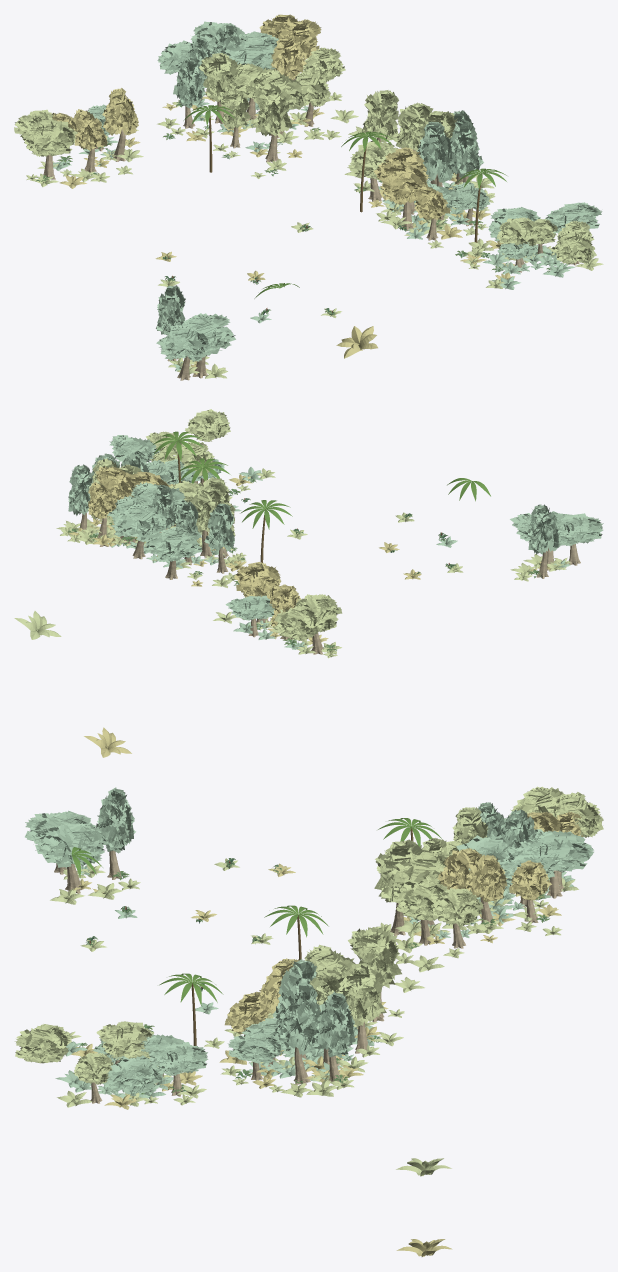
The model's file is island-context-reference.glb.
The picture shows the model from 3 angles, top to bottom: view 1: azimuth 30°, elevation 25°; view 2: azimuth 150°, elevation 25°; view 3: azimuth 270°, elevation 25°; orthographic projection. The views are drawn at different scales.
Parts seen in each view (by area): view 1: C1 Island ref / tree / 29:11, C1 Island ref / tree / 24:30, C1 Island ref / tree / 33:16, C1 Island ref / tree / 31:11, C1 Island ref / tree / 33:13, C1 Island ref / tree / 35:9, C1 Island ref / tree / 29:12, C1 Island ref / tree / 33:14, C1 Island ref / tree / 35:10, C1 Island ref / tree / 31:18, C1 Island ref / tree / 35:25, C1 Island ref / tree / 29:16 (+25 smaller); view 2: C1 Island ref / tree / 35:28, C1 Island ref / tree / 35:27, C1 Island ref / tree / 31:18, C1 Island ref / tree / 24:29, C1 Island ref / tree / 29:10, C1 Island ref / tree / 35:9, C1 Island ref / tree / 29:16, C1 Island ref / tree / 24:21, C1 Island ref / tree / 29:13, C1 Island ref / tree / 35:22, C1 Island ref / tree / 31:14, C1 Island ref / tree / 24:30 (+12 smaller); view 3: C1 Island ref / tree / 29:12, C1 Island ref / tree / 35:10, C1 Island ref / tree / 33:12, C1 Island ref / tree / 29:13, C1 Island ref / tree / 35:27, C1 Island ref / tree / 33:13, C1 Island ref / tree / 29:10, C1 Island ref / tree / 24:21, C1 Island ref / tree / 35:22, C1 Island ref / tree / 33:16, C1 Island ref / tree / 24:28, C1 Island ref / tree / 31:14 (+19 smaller).
Part boxes in pixels (x1,y1,x2,y2): C1 Island ref / tree / 29:11: [417, 121, 457, 182]; C1 Island ref / tree / 24:30: [19, 119, 77, 156]; C1 Island ref / tree / 33:16: [253, 82, 293, 136]; C1 Island ref / tree / 31:11: [373, 161, 427, 204]; C1 Island ref / tree / 33:13: [363, 90, 398, 142]; C1 Island ref / tree / 35:9: [156, 323, 211, 361]; C1 Island ref / tree / 29:12: [450, 119, 483, 177]; C1 Island ref / tree / 33:14: [199, 53, 238, 101]; C1 Island ref / tree / 35:10: [183, 313, 235, 355]; C1 Island ref / tree / 31:18: [102, 88, 138, 135]; C1 Island ref / tree / 35:25: [223, 36, 278, 70]; C1 Island ref / tree / 29:16: [173, 56, 205, 108]; C1 Island ref / tree / 35:28: [143, 527, 202, 561]; C1 Island ref / tree / 35:27: [112, 503, 166, 541]; C1 Island ref / tree / 31:18: [234, 562, 281, 598]; C1 Island ref / tree / 24:29: [273, 605, 322, 639]; C1 Island ref / tree / 29:10: [527, 504, 561, 554]; C1 Island ref / tree / 35:9: [556, 513, 603, 545]; C1 Island ref / tree / 29:16: [204, 503, 234, 551]; C1 Island ref / tree / 24:21: [185, 409, 230, 441]; C1 Island ref / tree / 29:13: [68, 464, 94, 515]; C1 Island ref / tree / 35:22: [109, 435, 160, 463]; C1 Island ref / tree / 31:14: [95, 466, 136, 505]; C1 Island ref / tree / 24:30: [295, 594, 342, 632]; C1 Island ref / tree / 29:12: [275, 982, 321, 1055]; C1 Island ref / tree / 35:10: [35, 822, 110, 868]; C1 Island ref / tree / 33:12: [339, 963, 386, 1026]; C1 Island ref / tree / 29:13: [313, 991, 355, 1057]; C1 Island ref / tree / 35:27: [512, 834, 593, 872]; C1 Island ref / tree / 33:13: [348, 927, 401, 988]; C1 Island ref / tree / 29:10: [96, 787, 135, 853]; C1 Island ref / tree / 24:21: [14, 1024, 71, 1063]; C1 Island ref / tree / 35:22: [106, 1055, 165, 1093]; C1 Island ref / tree / 33:16: [374, 839, 424, 903]; C1 Island ref / tree / 24:28: [431, 888, 483, 926]; C1 Island ref / tree / 31:14: [466, 854, 507, 902].
Bounding box in the file's own units: 86.49 × 56.64 × 78.14.
